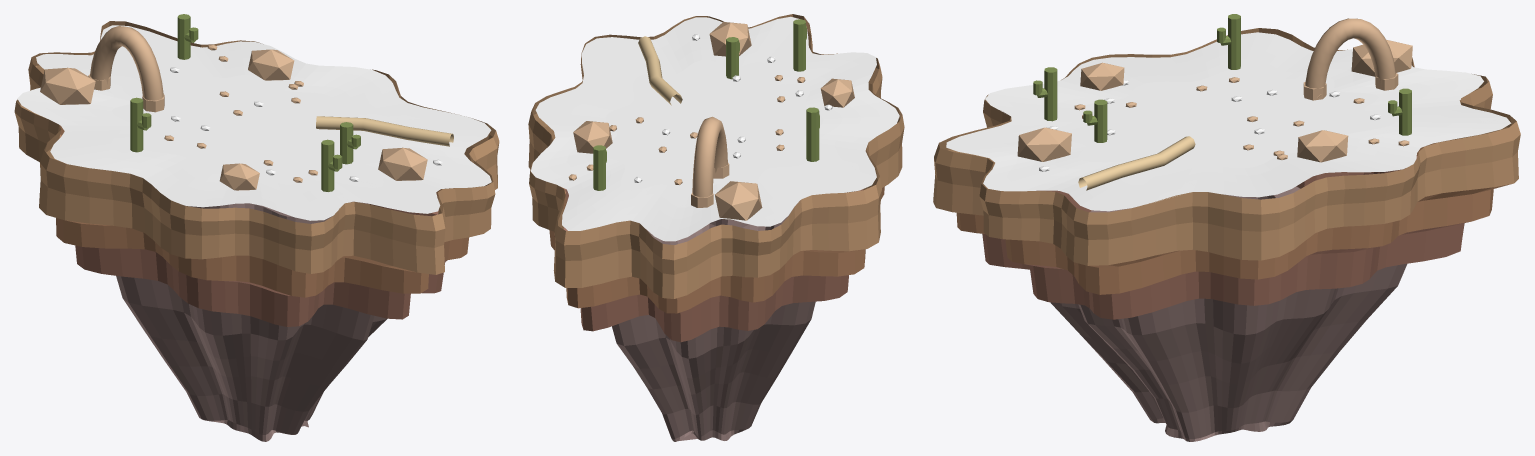
Rendered from FI-025-Dunehook-Reach.glb.
3 views of the same model, side by side, from view 1: azimuth 30°, elevation 25°; view 2: azimuth 150°, elevation 25°; view 3: azimuth 270°, elevation 25° (orthographic). The views are drawn at different scales.
Parts seen in each view (by area): view 1: FI-025_StratifiedFloatingCliff, FI-025_BuildableTop, SunspineNaturalArch, DryWash, SandstoneBoulder_01, SandstoneBoulder_00, SandstoneBoulder_03, SandstoneBoulder_02, Saguaro_02_Trunk, Saguaro_00_Trunk, Saguaro_03_Trunk, Saguaro_01_Trunk; view 2: FI-025_StratifiedFloatingCliff, FI-025_BuildableTop, SunspineNaturalArch, SandstoneBoulder_01, DryWash, SandstoneBoulder_03, SandstoneBoulder_00, SandstoneBoulder_02, Saguaro_02_Trunk, Saguaro_00_Trunk, Saguaro_03_Trunk, Saguaro_01_Trunk; view 3: FI-025_StratifiedFloatingCliff, FI-025_BuildableTop, SunspineNaturalArch, DryWash, SandstoneBoulder_00, SandstoneBoulder_03, SandstoneBoulder_01, SandstoneBoulder_02, Saguaro_00_Trunk, Saguaro_02_Trunk, Saguaro_03_Trunk, Saguaro_01_Trunk.
Boxes of the visible parts, x1,y1,x2,y2 form: FI-025_StratifiedFloatingCliff: (14,21,499,441); FI-025_BuildableTop: (17,25,491,220); SunspineNaturalArch: (90,26,163,100); DryWash: (316,116,453,146); SandstoneBoulder_01: (40,67,95,104); SandstoneBoulder_00: (378,147,427,180); SandstoneBoulder_03: (248,49,294,80); SandstoneBoulder_02: (219,163,259,190); Saguaro_02_Trunk: (130,97,143,152); Saguaro_00_Trunk: (321,139,334,191); Saguaro_03_Trunk: (177,14,190,59); Saguaro_01_Trunk: (340,122,353,164); FI-025_StratifiedFloatingCliff: (528,14,904,441); FI-025_BuildableTop: (531,16,899,241); SunspineNaturalArch: (692,116,727,197); SandstoneBoulder_01: (715,181,762,220); DryWash: (638,36,682,105); SandstoneBoulder_03: (573,121,612,153); SandstoneBoulder_00: (709,22,751,56); SandstoneBoulder_02: (820,78,854,107); Saguaro_02_Trunk: (806,107,819,161); Saguaro_00_Trunk: (793,19,805,71); Saguaro_03_Trunk: (593,145,605,190); Saguaro_01_Trunk: (726,37,738,79); FI-025_StratifiedFloatingCliff: (933,28,1520,441); FI-025_BuildableTop: (946,32,1511,211); SunspineNaturalArch: (1305,18,1395,95); DryWash: (1078,136,1195,190); SandstoneBoulder_00: (1017,127,1071,161); SandstoneBoulder_03: (1297,130,1348,162); SandstoneBoulder_01: (1351,39,1412,76); SandstoneBoulder_02: (1080,62,1124,90); Saguaro_00_Trunk: (1044,67,1057,121); Saguaro_02_Trunk: (1228,14,1240,69); Saguaro_03_Trunk: (1399,88,1411,135); Saguaro_01_Trunk: (1094,99,1107,142).
Size of the model in its own units: 11.01 by 10.3 by 14.71.
